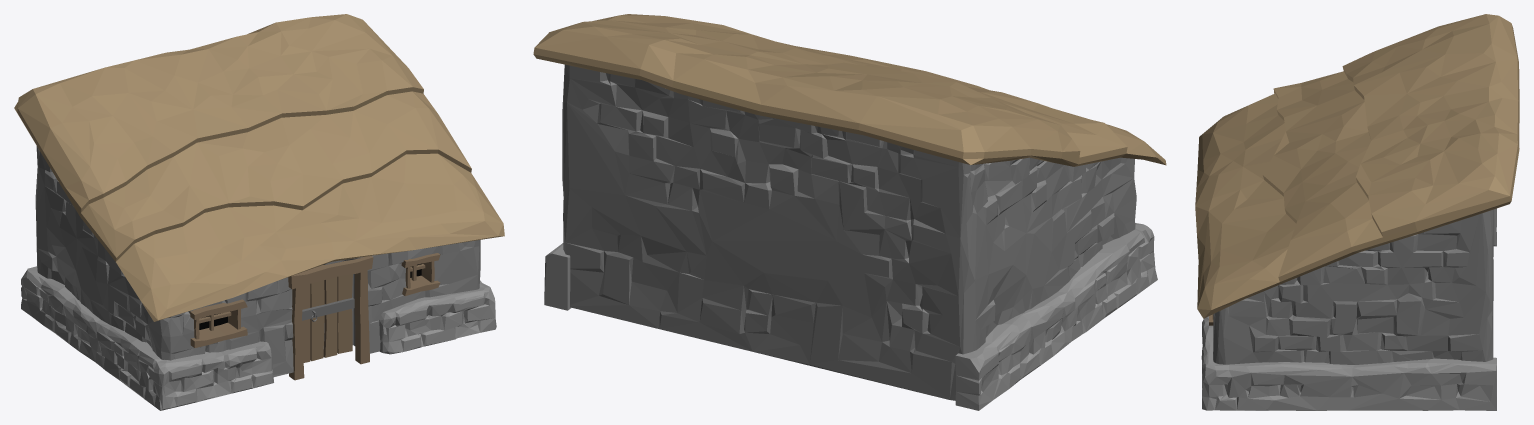
The model's file is village_stone_house_l.FBX.
3 renders of one model, left to right at view 1: azimuth 30°, elevation 25°; view 2: azimuth 150°, elevation 25°; view 3: azimuth 270°, elevation 25°, orthographic. The views are drawn at different scales.
Parts seen in each view (by area): view 1: village_stone_house_l; view 2: village_stone_house_l; view 3: village_stone_house_l.
Boxes of the visible parts, bbox=[...] form: village_stone_house_l: bbox=[14, 14, 504, 410]; village_stone_house_l: bbox=[533, 14, 1166, 410]; village_stone_house_l: bbox=[1195, 14, 1519, 410].
Bounding box in the file's own units: 7.73 × 4.71 × 5.74.
